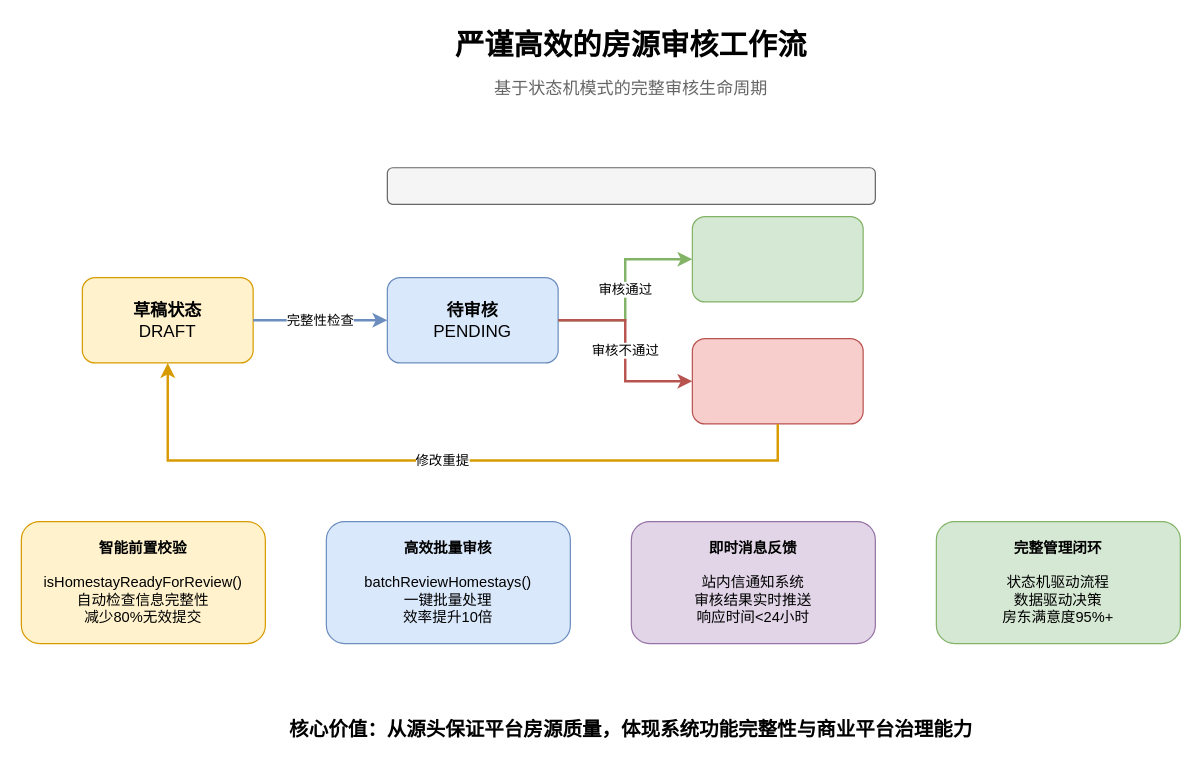
Some shapes in this 1202 by 773 pixel diagram are drawn without their labels. Here are the shapes that lost their labels. From the top down, the centre of each, then its label:
At (x=630, y=185): "技术亮点：状态机模式 · 前置校验 · 批量处理 · 即时反馈".
At (x=777, y=258): "已上架 ACTIVE".
At (x=777, y=380): "已驳回 REJECTED".
